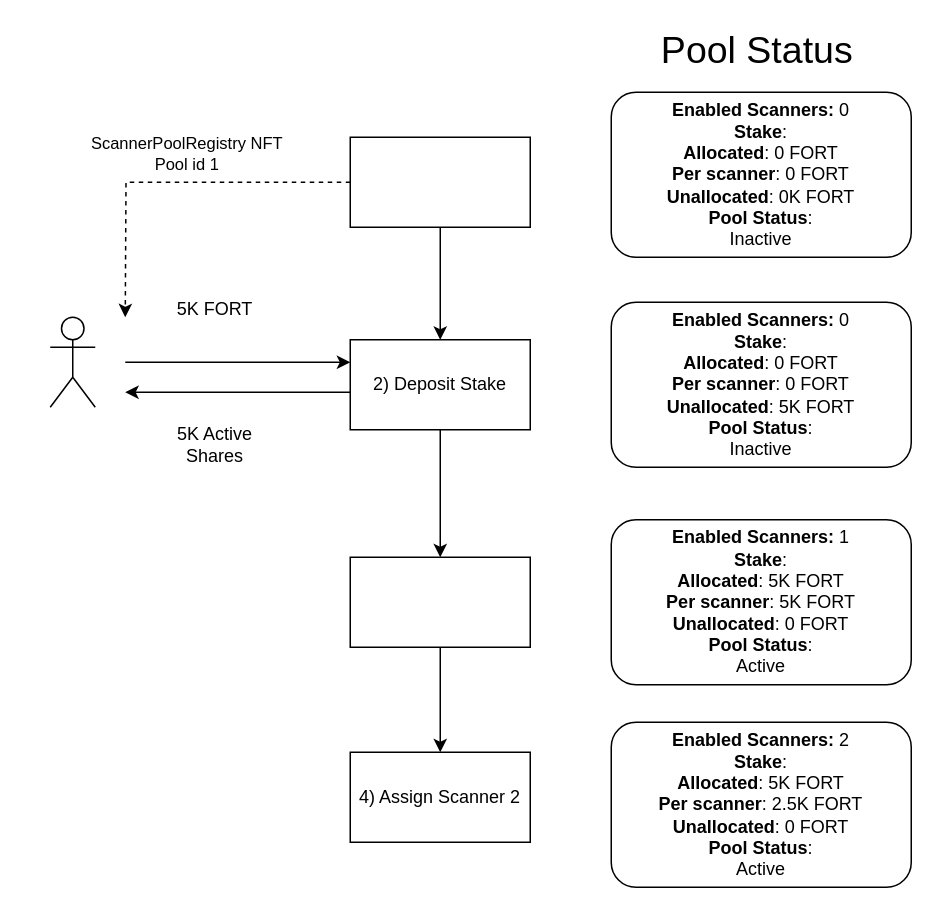
Image size: 938x914. Some labels were removed from this diagram. Here are the shapes that lost their labels. From the top down, the centre of each, then its label:
At (439,181): "1) Register Pool".
At (72,361): "Pool Owner".
At (439,601): "3) Assign Scanner 1".
